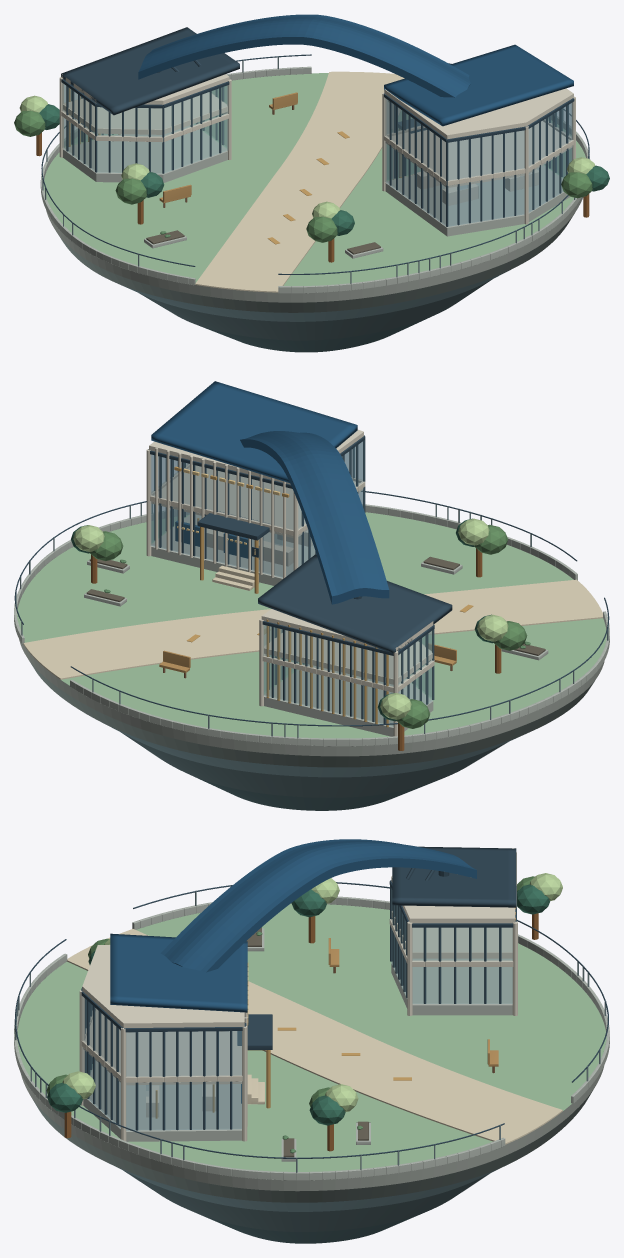
3 renders of one model, top to bottom at view 1: azimuth 30°, elevation 25°; view 2: azimuth 150°, elevation 25°; view 3: azimuth 270°, elevation 25°, orthographic. The views are drawn at different scales.
Visible parts, largest first — view 1: ROLE_terrain_Components__grass, ROLE_paving_Components__paveLight, ROLE_building_Components__civicStone, ROLE_building_Components__civicGlass, ROLE_building_Components__stone2, ROLE_building_Components__civicSky, ROLE_building_Components__civicSteel, ROLE_building_Components__mistglass, ROLE_roof_Components__civicSky, ROLE_roof_Components__civicSteel, ROLE_terrain_Components__cliff2, ROLE_terrain_Components__stone2 (+12 smaller); view 2: ROLE_terrain_Components__grass, ROLE_building_Components__civicStone, ROLE_paving_Components__paveLight, ROLE_building_Components__civicSky, ROLE_building_Components__civicGlass, ROLE_roof_Components__civicSky, ROLE_roof_Components__civicSteel, ROLE_building_Components__mistglass, ROLE_rails_Components__stone2, ROLE_building_Components__civicSteel, ROLE_building_Components__stone2, ROLE_terrain_Components__stone2 (+14 smaller); view 3: ROLE_terrain_Components__grass, ROLE_building_Components__civicStone, ROLE_paving_Components__paveLight, ROLE_building_Components__civicGlass, ROLE_building_Components__civicSky, ROLE_building_Components__stone2, ROLE_building_Components__civicSteel, ROLE_roof_Components__civicSky, ROLE_rails_Components__stone2, ROLE_building_Components__mistglass, ROLE_roof_Components__civicSteel, ROLE_terrain_Components__stone2 (+11 smaller).
Boxes of the visible parts, x1,y1,x2,y2 form: ROLE_terrain_Components__grass: (43, 73, 585, 286); ROLE_paving_Components__paveLight: (195, 71, 404, 292); ROLE_building_Components__civicStone: (59, 74, 575, 224); ROLE_building_Components__civicGlass: (385, 98, 572, 226); ROLE_building_Components__stone2: (63, 124, 570, 236); ROLE_building_Components__civicSky: (138, 14, 470, 97); ROLE_building_Components__civicSteel: (61, 60, 574, 226); ROLE_building_Components__mistglass: (62, 83, 228, 173); ROLE_roof_Components__civicSky: (384, 44, 573, 126); ROLE_roof_Components__civicSteel: (61, 27, 427, 133); ROLE_terrain_Components__cliff2: (139, 279, 492, 340); ROLE_terrain_Components__stone2: (46, 197, 583, 302); ROLE_terrain_Components__grass: (17, 512, 606, 738); ROLE_building_Components__civicStone: (146, 429, 434, 736); ROLE_paving_Components__paveLight: (23, 579, 602, 679); ROLE_building_Components__civicSky: (175, 431, 389, 604); ROLE_building_Components__civicGlass: (150, 440, 364, 577); ROLE_roof_Components__civicSky: (151, 381, 357, 482); ROLE_roof_Components__civicSteel: (197, 511, 452, 653); ROLE_building_Components__mistglass: (263, 625, 433, 726); ROLE_rails_Components__stone2: (14, 504, 609, 746); ROLE_building_Components__civicSteel: (148, 435, 434, 723); ROLE_building_Components__stone2: (151, 514, 433, 736); ROLE_terrain_Components__stone2: (19, 639, 604, 756); ROLE_terrain_Components__grass: (17, 903, 606, 1171); ROLE_building_Components__civicStone: (79, 848, 517, 1141); ROLE_paving_Components__paveLight: (67, 929, 562, 1144); ROLE_building_Components__civicGlass: (82, 997, 241, 1130); ROLE_building_Components__civicSky: (160, 839, 476, 1103); ROLE_building_Components__stone2: (83, 958, 512, 1141); ROLE_building_Components__civicSteel: (81, 868, 516, 1130); ROLE_roof_Components__civicSky: (110, 933, 247, 1012); ROLE_rails_Components__stone2: (14, 896, 609, 1180); ROLE_building_Components__mistglass: (391, 889, 512, 1003); ROLE_roof_Components__civicSteel: (237, 846, 516, 1049); ROLE_terrain_Components__stone2: (20, 1066, 603, 1191).
Bounding box in the file's own units: 31.82 × 18.08 × 28.83.
